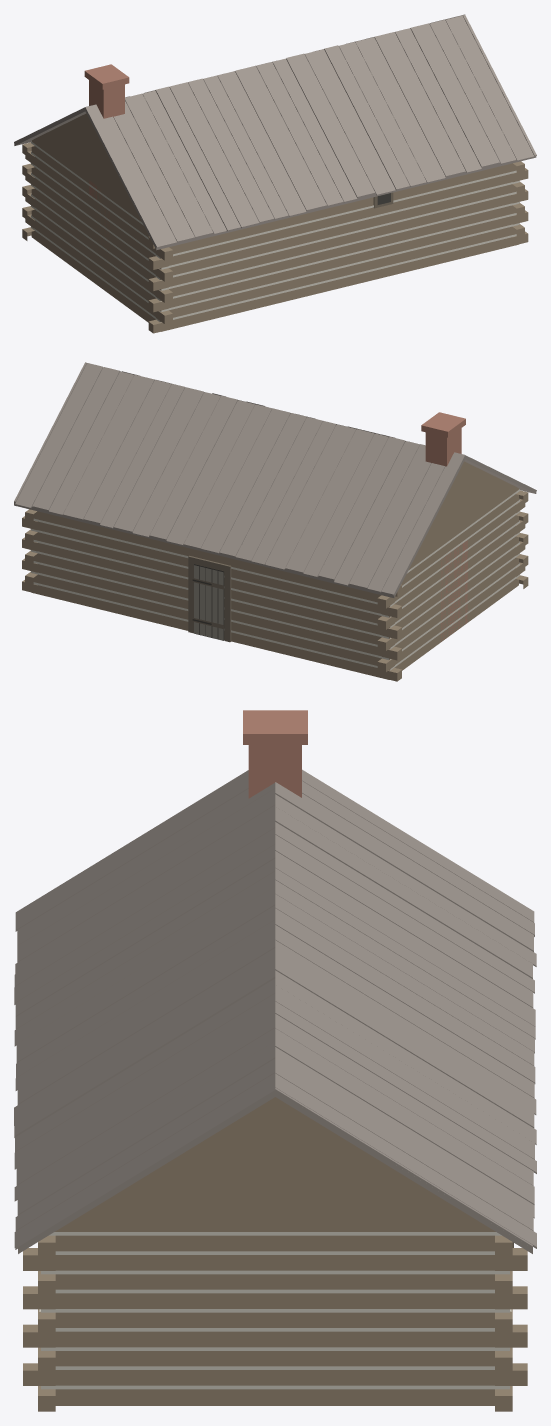
Rendered from first_fort_outer_armourers_shop__first_fort_1803.glb.
The picture shows the model from 3 angles, top to bottom: view 1: azimuth 30°, elevation 25°; view 2: azimuth 150°, elevation 25°; view 3: azimuth 270°, elevation 25°; orthographic projection. The views are drawn at different scales.
Visible parts, largest first — view 1: first_fort_outer_armourers_shop__first_fort_1803; view 2: first_fort_outer_armourers_shop__first_fort_1803; view 3: first_fort_outer_armourers_shop__first_fort_1803.
Boxes of the visible parts, <box> form: first_fort_outer_armourers_shop__first_fort_1803: <box>14,14,536,333</box>; first_fort_outer_armourers_shop__first_fort_1803: <box>14,362,536,681</box>; first_fort_outer_armourers_shop__first_fort_1803: <box>14,710,536,1411</box>.
Size of the model in its own units: 10.74 by 5.62 by 7.07.
